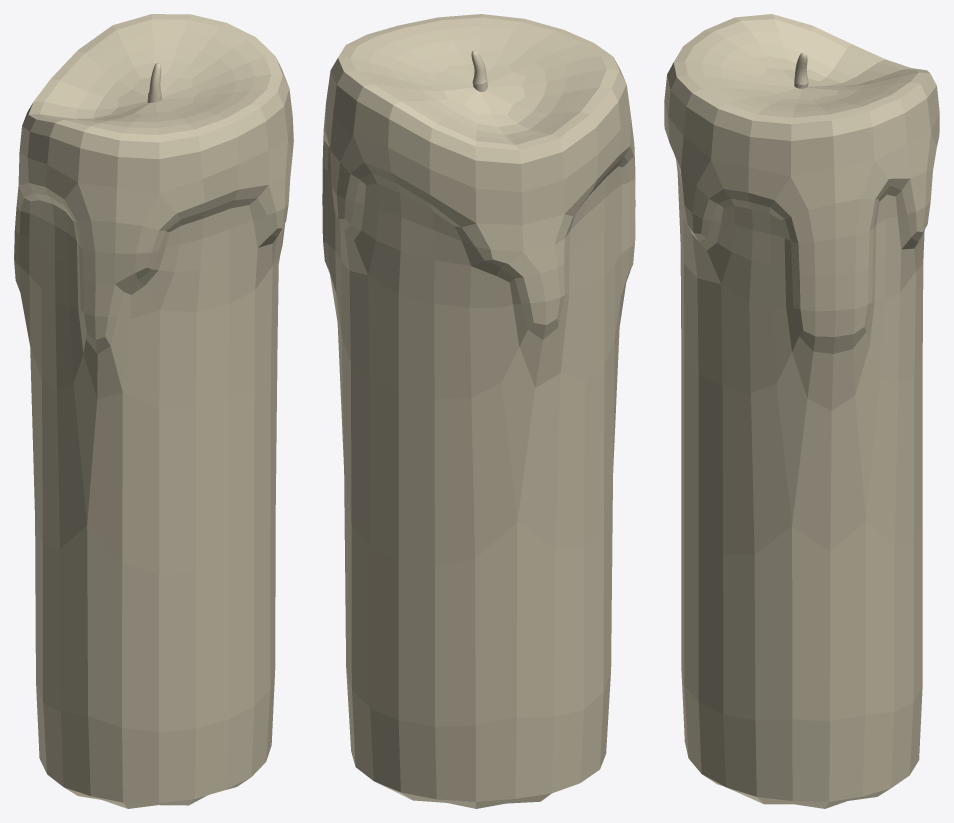
File: CandleSkinny.fbx
The picture shows the model from 3 angles, left to right: view 1: azimuth 30°, elevation 25°; view 2: azimuth 150°, elevation 25°; view 3: azimuth 270°, elevation 25°; orthographic projection. The views are drawn at different scales.
Parts seen in each view (by area): view 1: Skinny Candle; view 2: Skinny Candle; view 3: Skinny Candle.
Boxes of the visible parts, left/top/right/bottom form: Skinny Candle: left=14, top=14, right=293, bottom=808; Skinny Candle: left=322, top=14, right=635, bottom=808; Skinny Candle: left=664, top=14, right=939, bottom=808.
Bounding box in the file's own units: 8.07 × 21.31 × 7.42.
